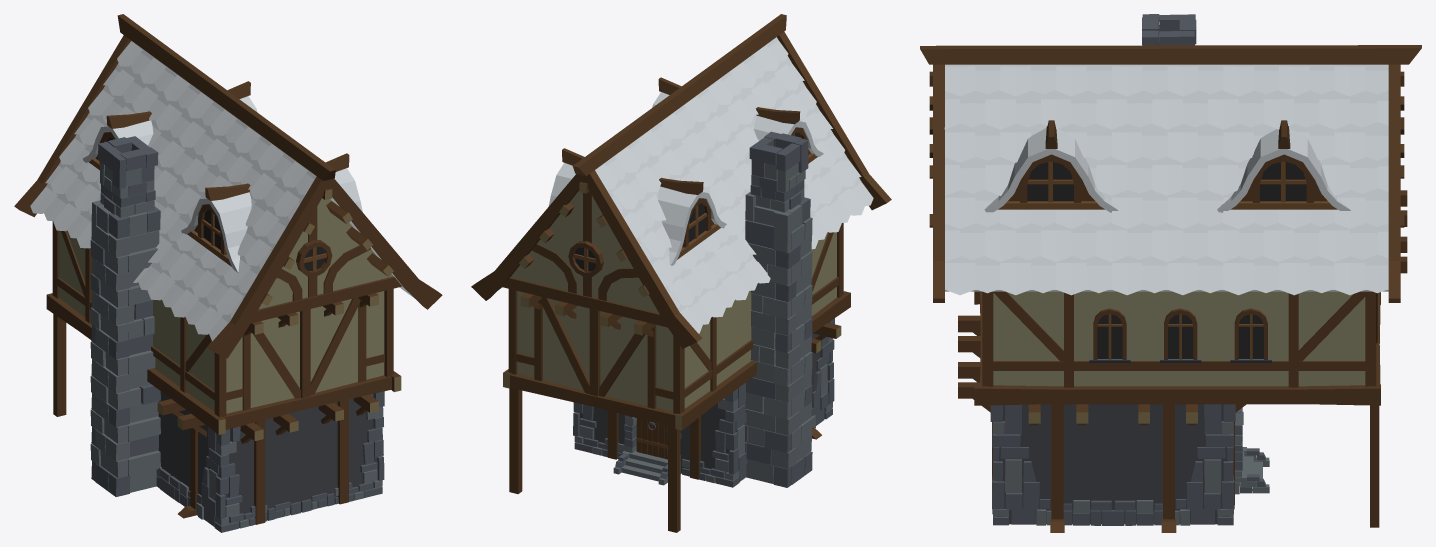
File: house-b-snow.glb
The picture shows the model from 3 angles, left to right: view 1: azimuth 30°, elevation 25°; view 2: azimuth 150°, elevation 25°; view 3: azimuth 270°, elevation 25°; orthographic projection. The views are drawn at different scales.
Parts seen in each view (by area): view 1: House_2; view 2: House_2; view 3: House_2.
Boxes of the visible parts, x1,y1,x2,y2 form: House_2: [14, 14, 442, 532]; House_2: [471, 14, 891, 532]; House_2: [920, 14, 1421, 532].
Bounding box in the file's own units: 2.22 × 3.25 × 3.42.
